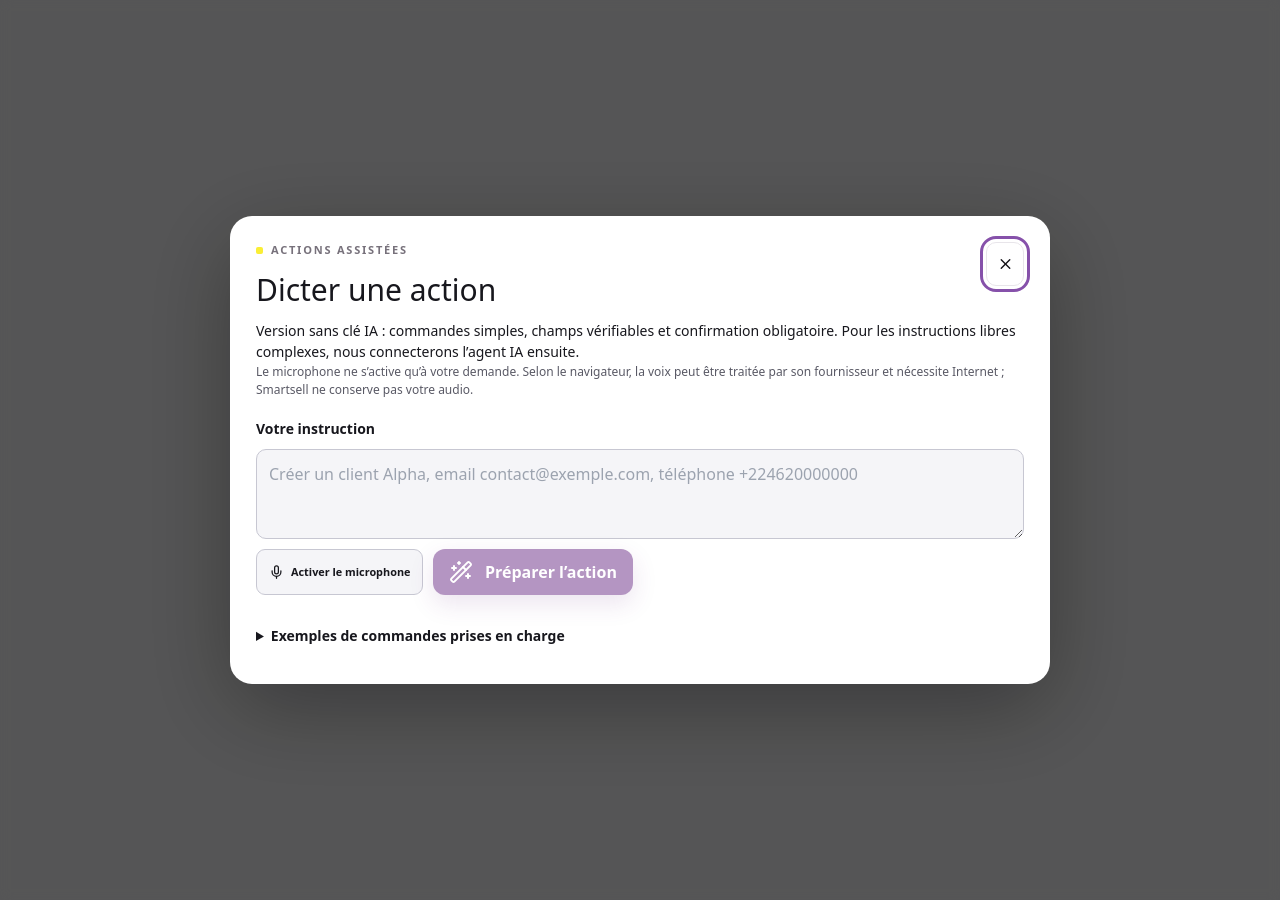
actions assistées sans clé IA › ne crée qu’après préparation ET confirmation et ne double pas sur un double clic
Replace the text in the text box labelled "Votre instruction" with "Créer un client Alpha, email qa@example.com" at (640, 494), box [256,449,1024,539]
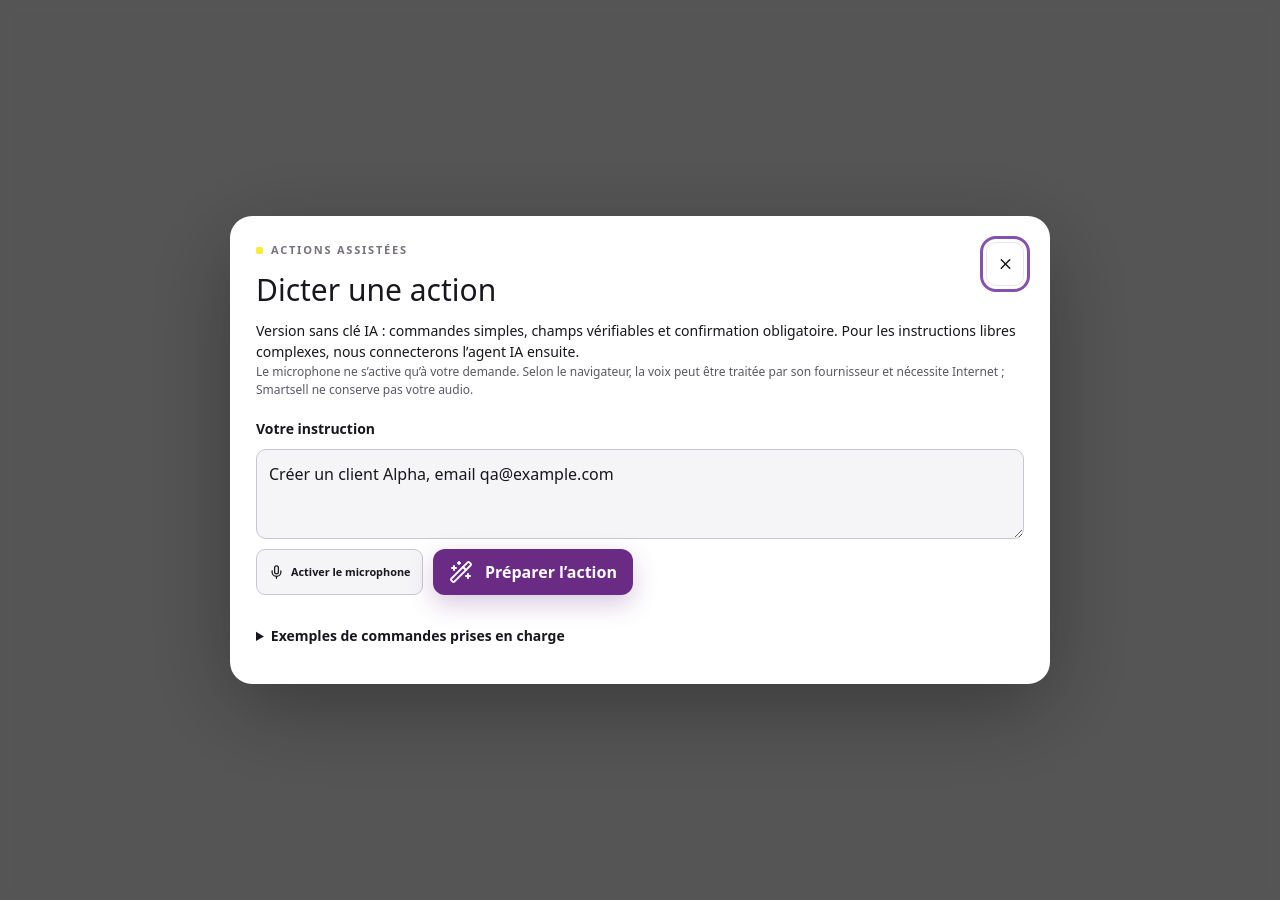
Click the button "Préparer l’action" at (533, 572), box [434,549,633,595]
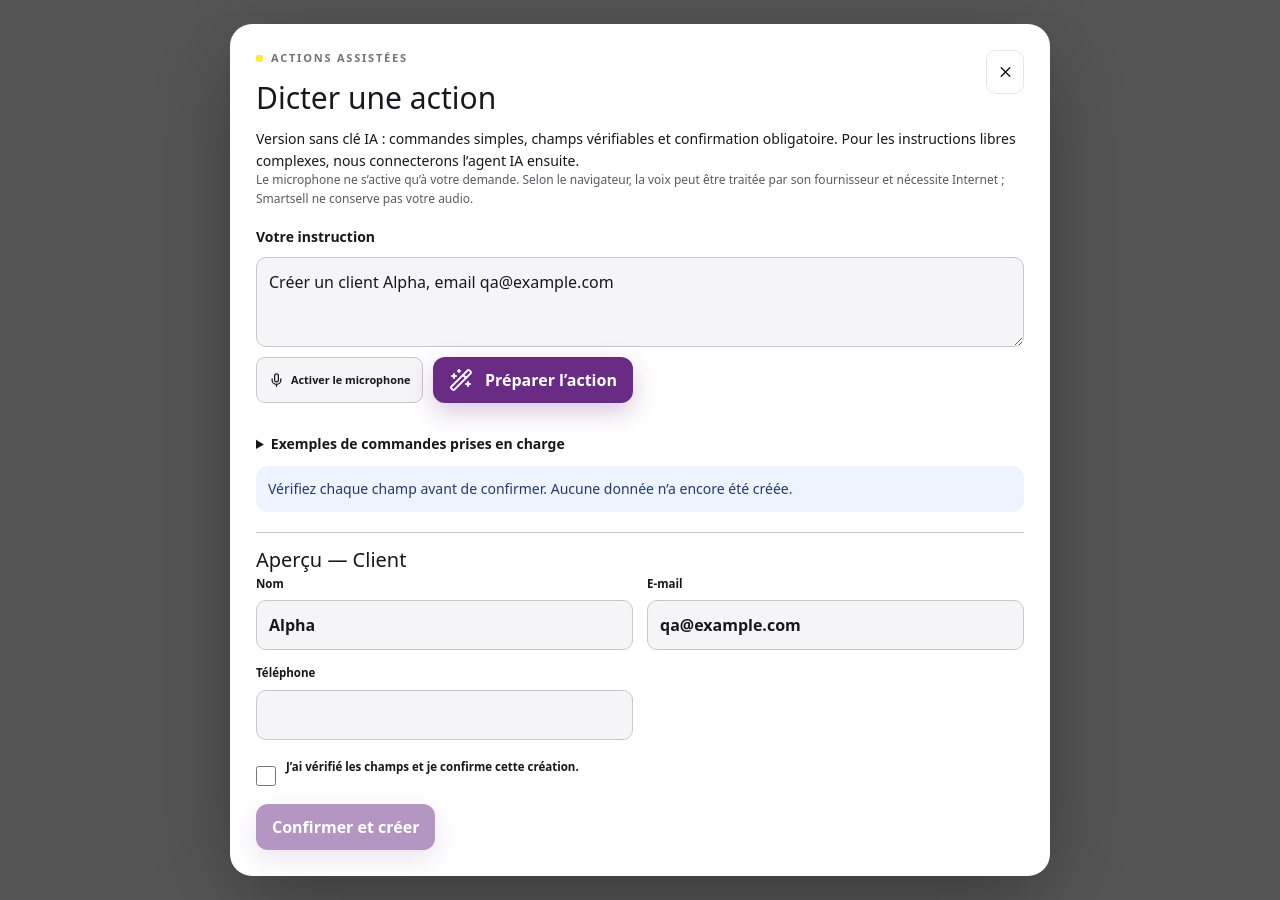
Expected: the heading "Aperçu — Client" is shown, [256,546,406,573]
Expected: the button "Confirmer et créer" is disabled, [256,804,436,850]
Click the checkbox labelled "J’ai vérifié les champs et je confirme cette création." at (266, 776), box [256,766,276,786]
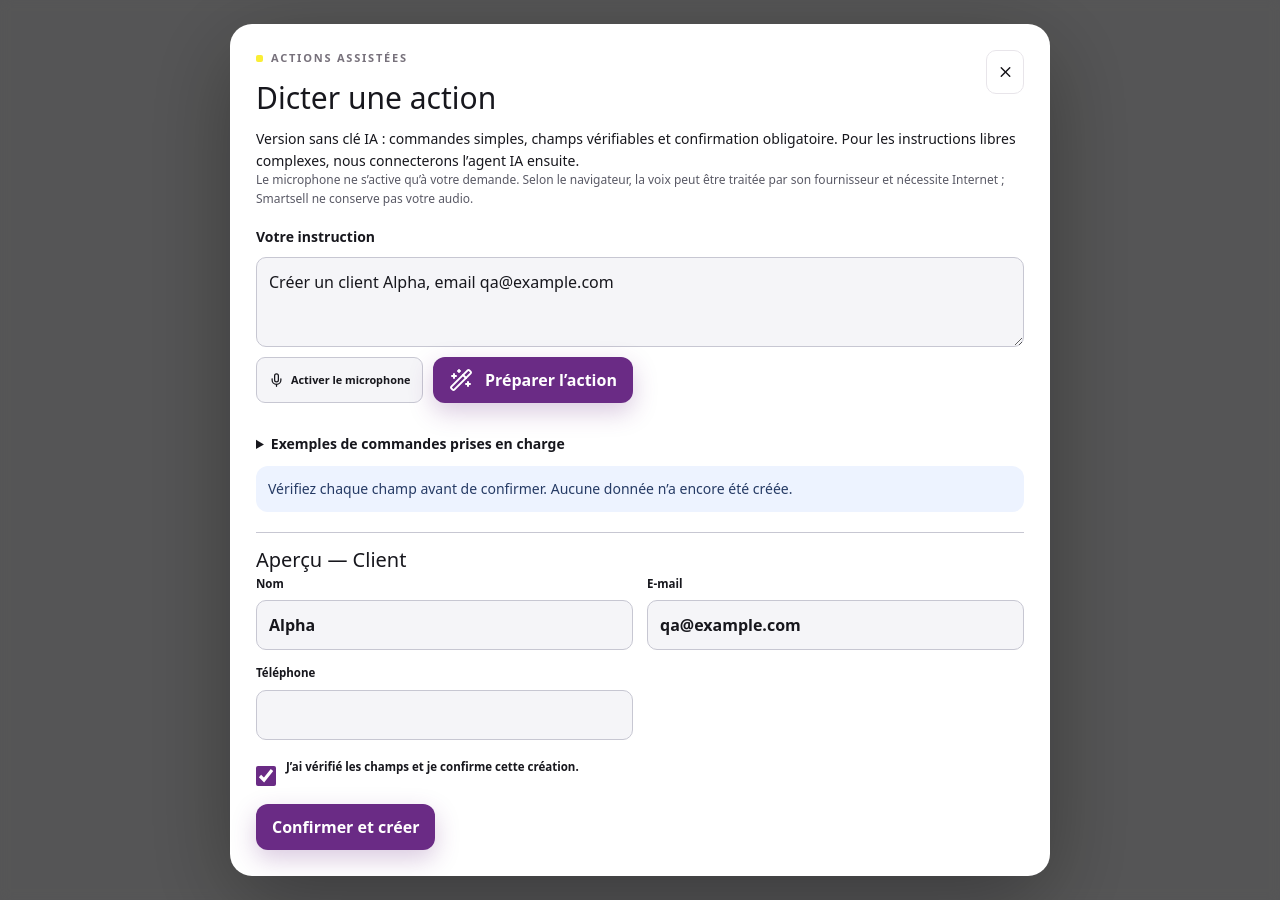
Click the button "Confirmer et créer" at (346, 827), box [256,804,436,850]
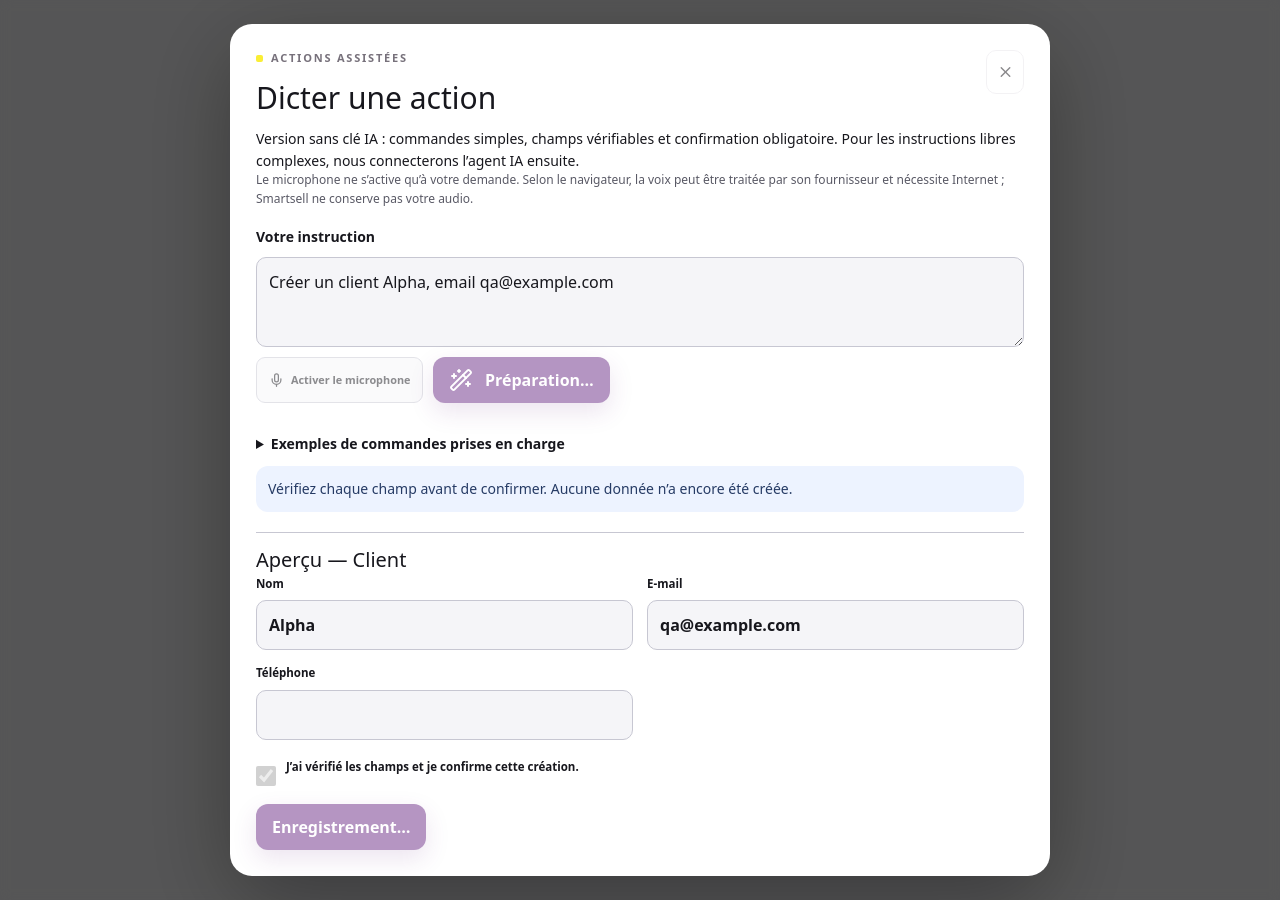
Click the button named "Confirmer et créer" at (341, 827), box [256,804,426,850]
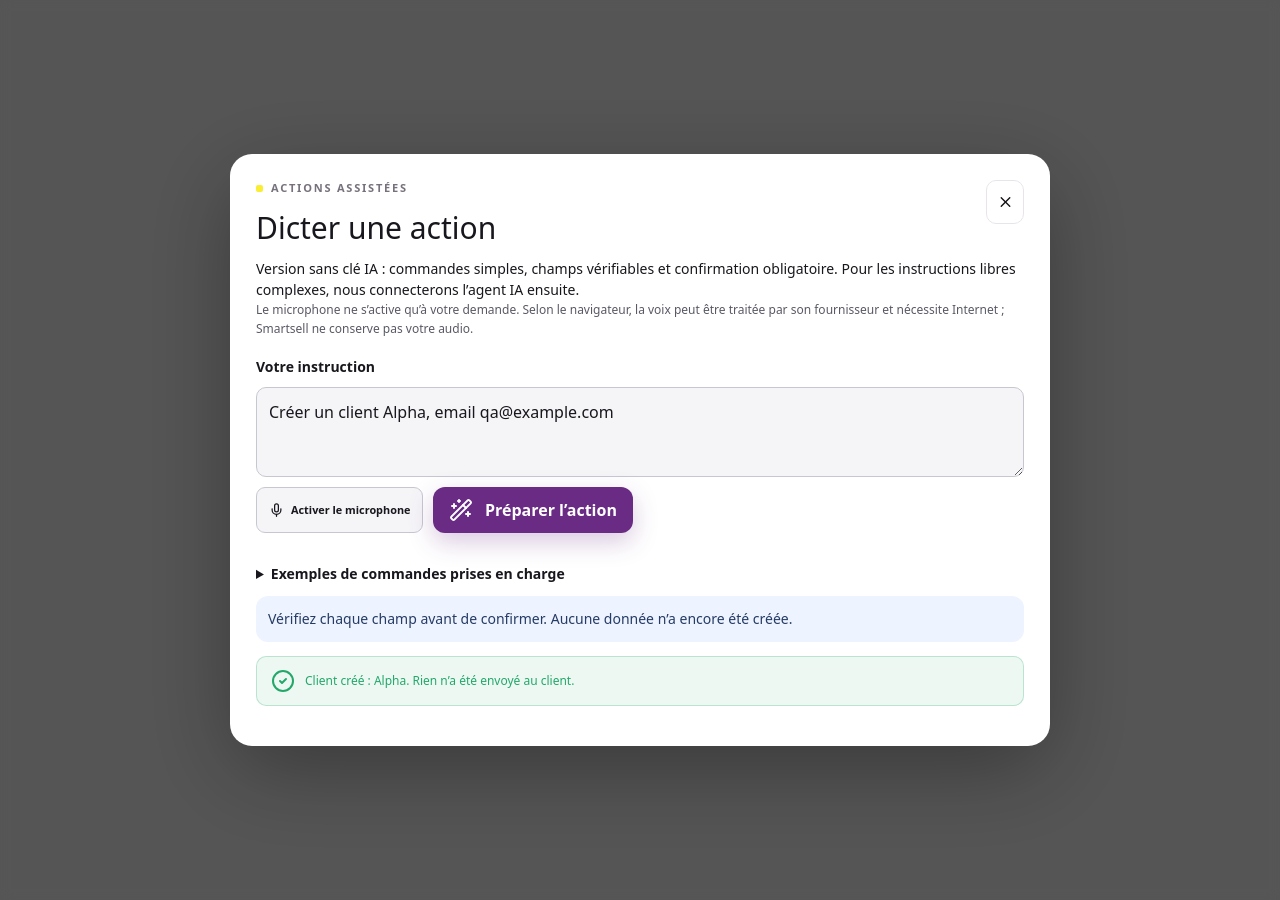
Expected: the text "Client créé : Alpha. Rien n’a été envoyé au client." is shown, [256,656,1024,706]
